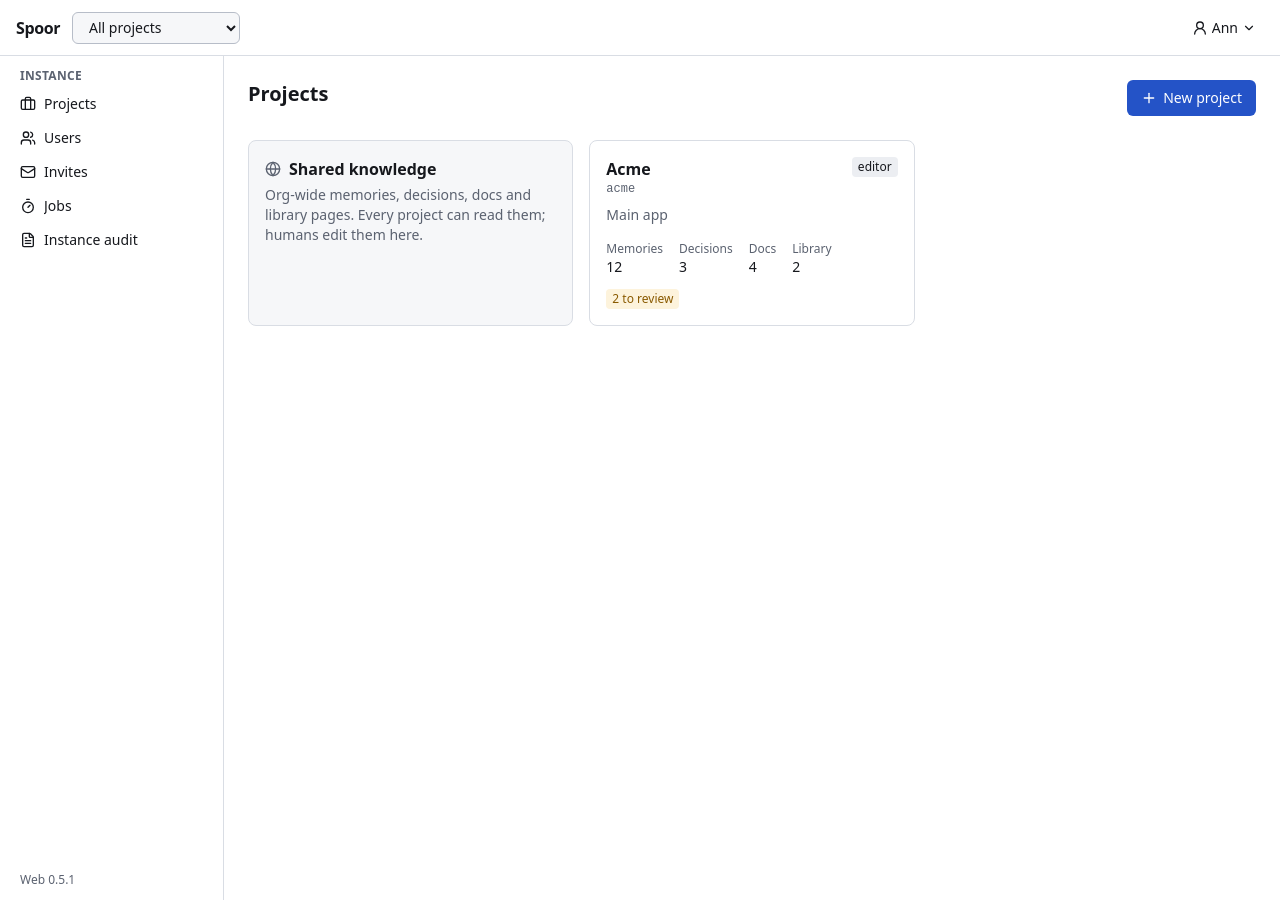
it: ProjectsPage › lets an instance admin create a project, mapping slug_taken to the slug field
The width and height of the screenshot is (1280, 900).
Click the button "New project" at (1192, 98), box [1127,80,1256,116]
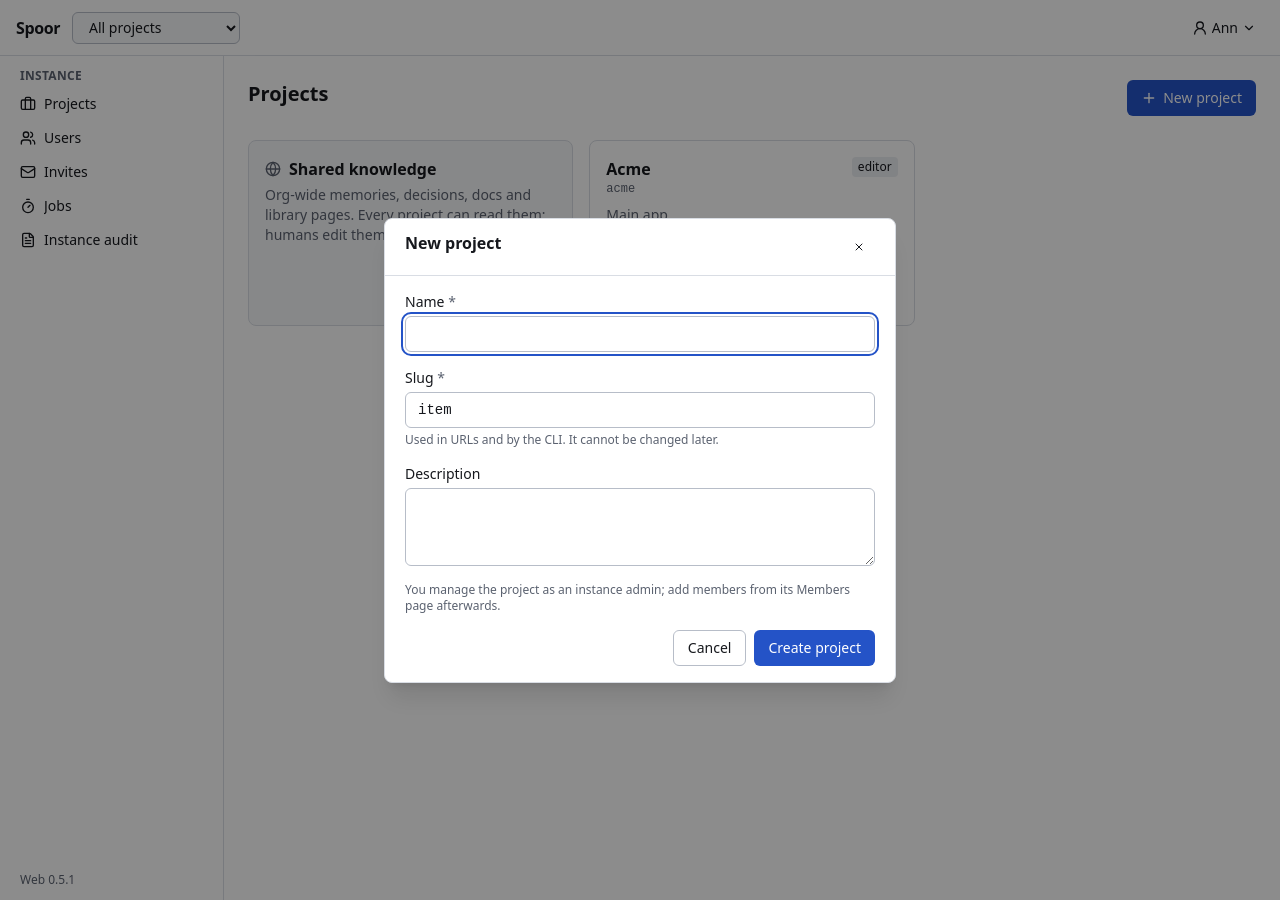
Type "New Thing" into the field labelled "Name *" at (640, 334), box [405,316,875,352]
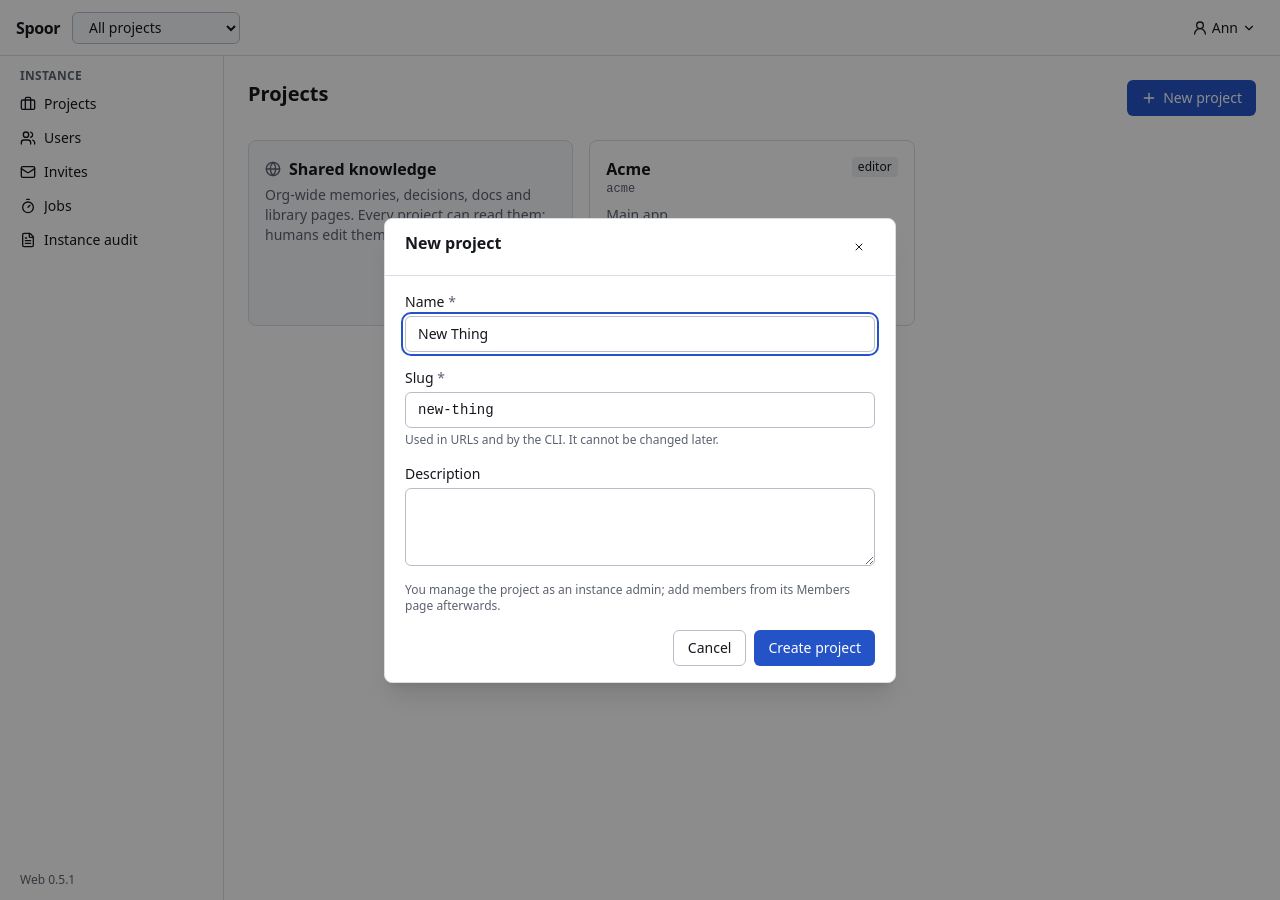
Result: the field labelled "Slug *" holds "new-thing" at [405,392,875,428]
Click the button "Create project" at (815, 648), box [754,630,875,666]
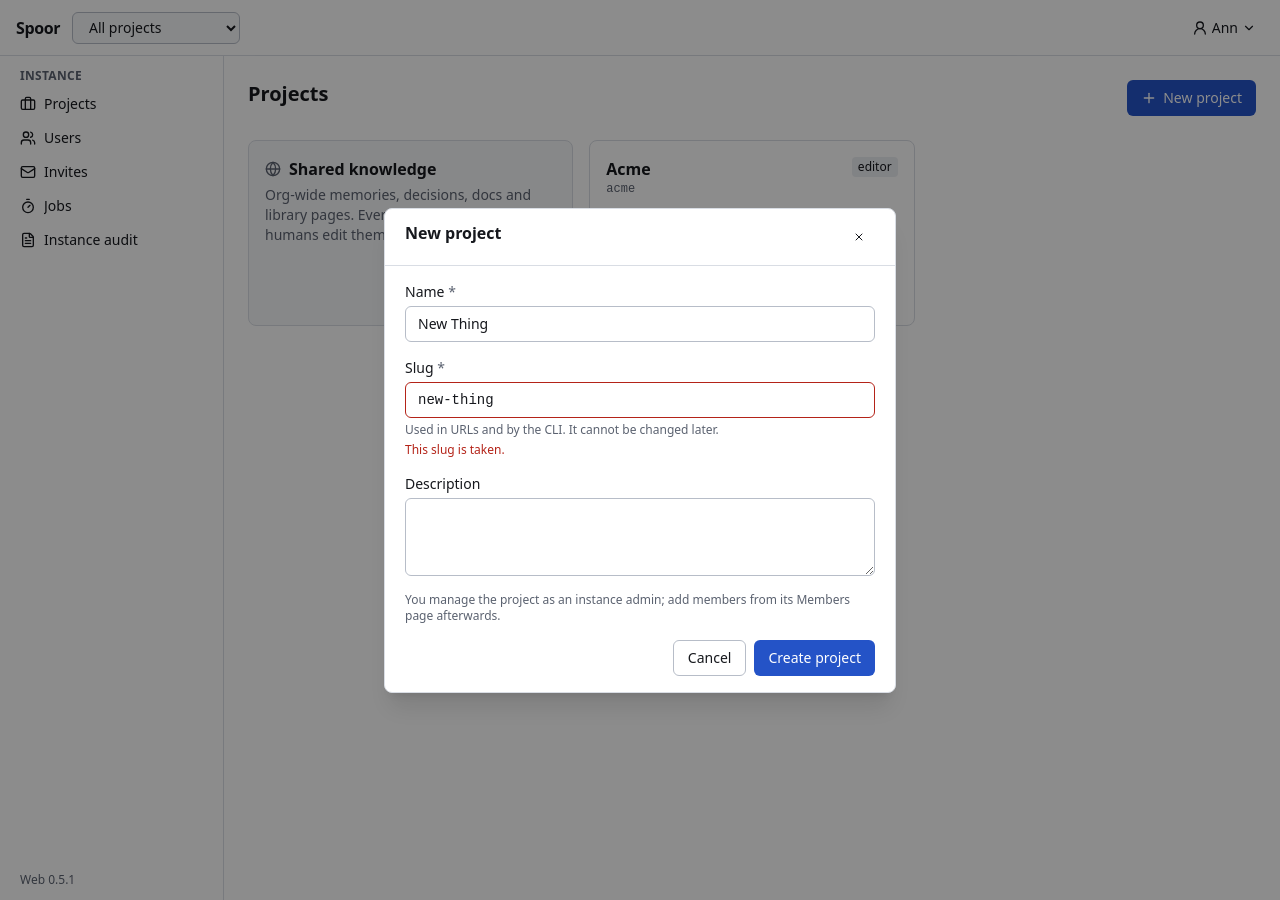
Result: the text "This slug is taken." is shown at [405,440,505,458]
Click the button "Create project" at (815, 658), box [754,640,875,676]
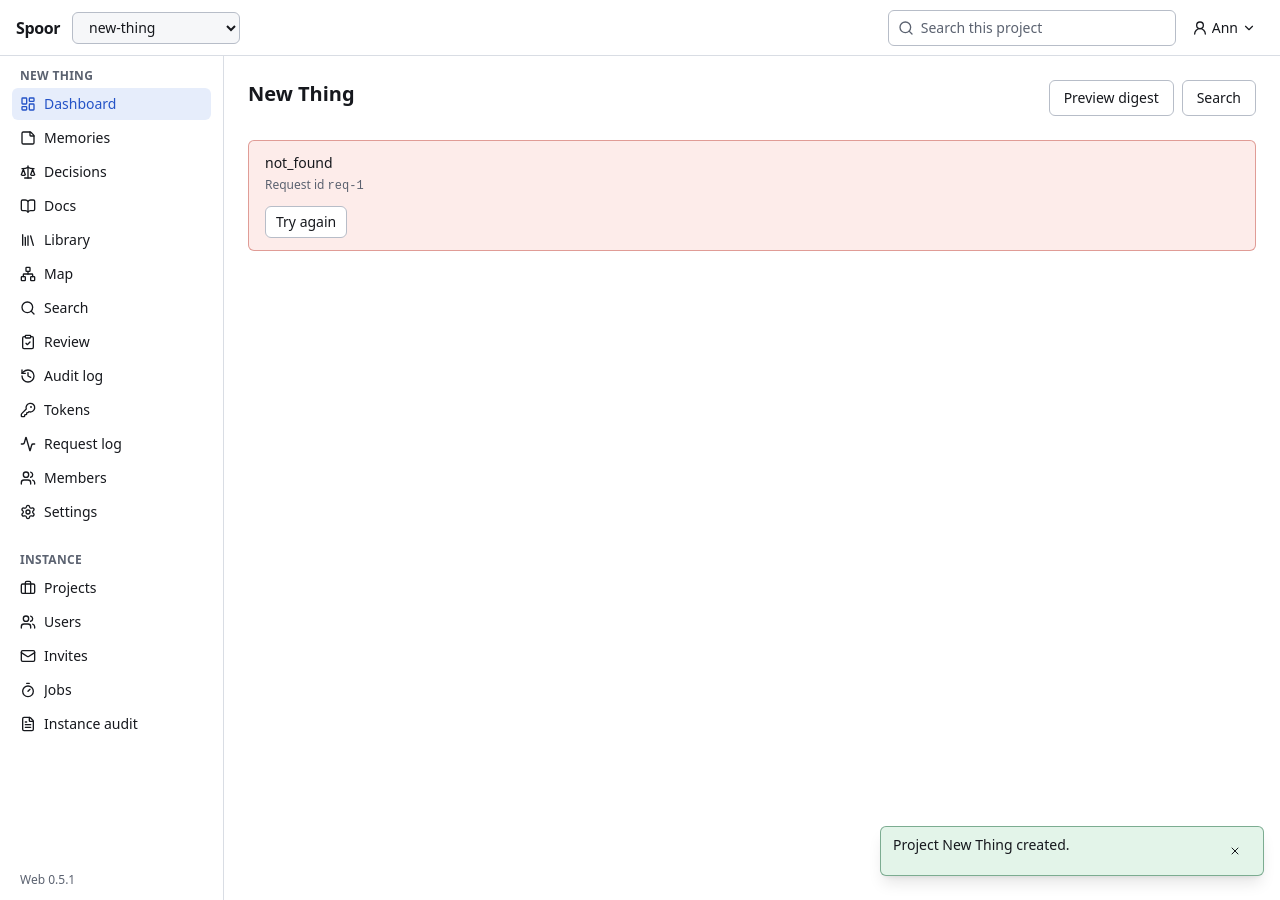
Result: the text "Project New Thing created." is shown at [893,835,1070,854]
